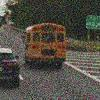buses: (25, 23, 67, 69)
